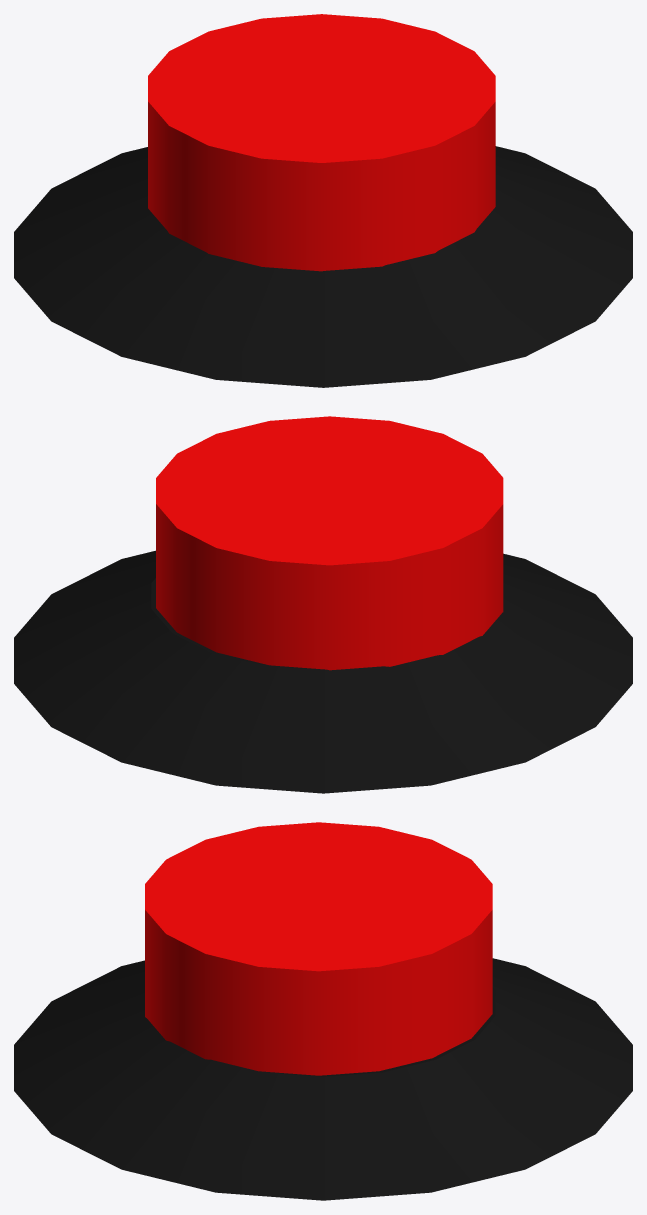
Rendered from _utton.fbx.
The picture shows the model from 3 angles, top to bottom: view 1: azimuth 30°, elevation 25°; view 2: azimuth 150°, elevation 25°; view 3: azimuth 270°, elevation 25°; orthographic projection.
Visible parts, largest first — view 1: Cylinder001, Cylinder002; view 2: Cylinder001, Cylinder002; view 3: Cylinder001, Cylinder002.
Boxes of the visible parts, <box> form: Cylinder001: <box>14,146,632,387</box>; Cylinder002: <box>148,14,495,271</box>; Cylinder001: <box>14,550,632,793</box>; Cylinder002: <box>156,416,503,670</box>; Cylinder001: <box>14,958,632,1200</box>; Cylinder002: <box>145,822,492,1075</box>.
Bounding box in the file's own units: 15.33 × 4.55 × 15.09.
